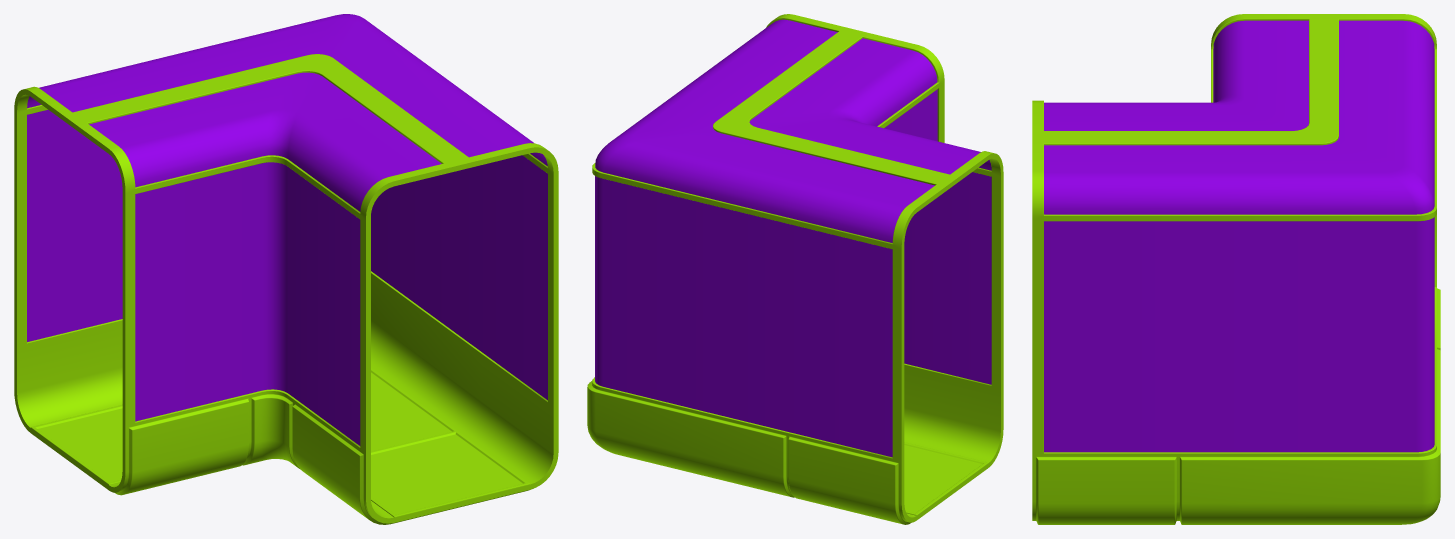
File: Corridor02.fbx
3 views of the same model, side by side, from view 1: azimuth 30°, elevation 25°; view 2: azimuth 150°, elevation 25°; view 3: azimuth 270°, elevation 25° (orthographic). The views are drawn at different scales.
Visible parts, largest first — view 1: SM_Corridor02; view 2: SM_Corridor02; view 3: SM_Corridor02.
Boxes of the visible parts, left/top/right/bottom form: SM_Corridor02: left=14, top=14, right=558, bottom=524; SM_Corridor02: left=587, top=14, right=1003, bottom=524; SM_Corridor02: left=1032, top=14, right=1440, bottom=524.
Size of the model in its own units: 2.8 by 2.65 by 2.8.
